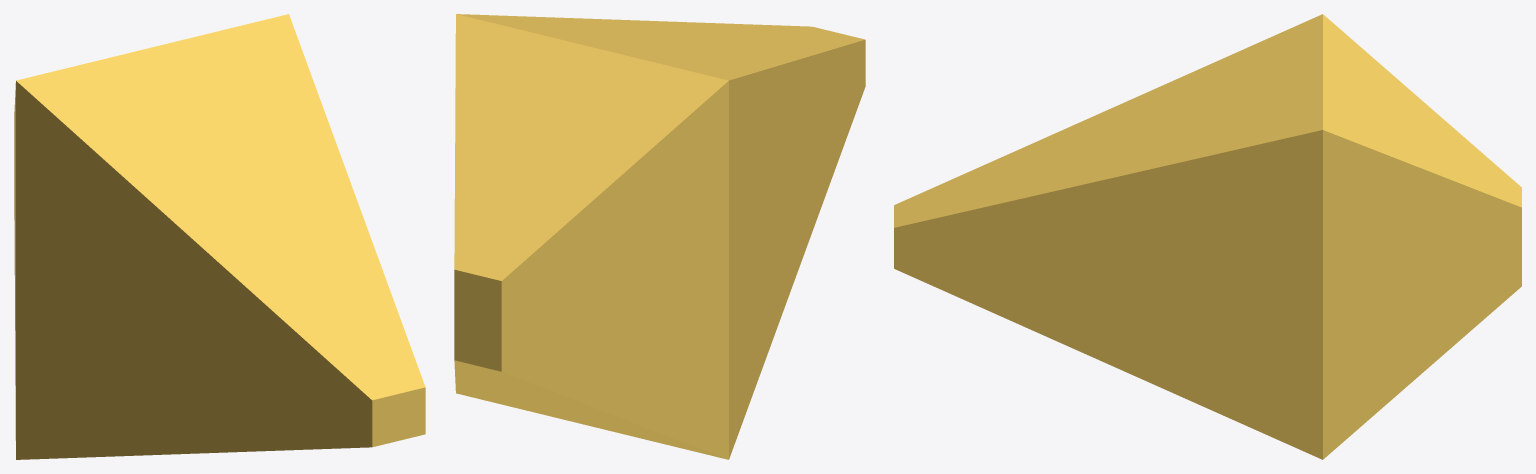
The model's file is SK_Wep_FX_BulletFlare_01.fbx.
The picture shows the model from 3 angles, left to right: view 1: azimuth 30°, elevation 25°; view 2: azimuth 150°, elevation 25°; view 3: azimuth 270°, elevation 25°; orthographic projection. The views are drawn at different scales.
Visible parts, largest first — view 1: SK_Wep_FX_BulletFlare_01; view 2: SK_Wep_FX_BulletFlare_01; view 3: SK_Wep_FX_BulletFlare_01.
Part boxes in pixels (bbox=[...]): SK_Wep_FX_BulletFlare_01: bbox=[14, 14, 425, 459]; SK_Wep_FX_BulletFlare_01: bbox=[454, 14, 865, 459]; SK_Wep_FX_BulletFlare_01: bbox=[894, 14, 1521, 459].
Size of the model in its own units: 45.85 by 60.88 by 105.
